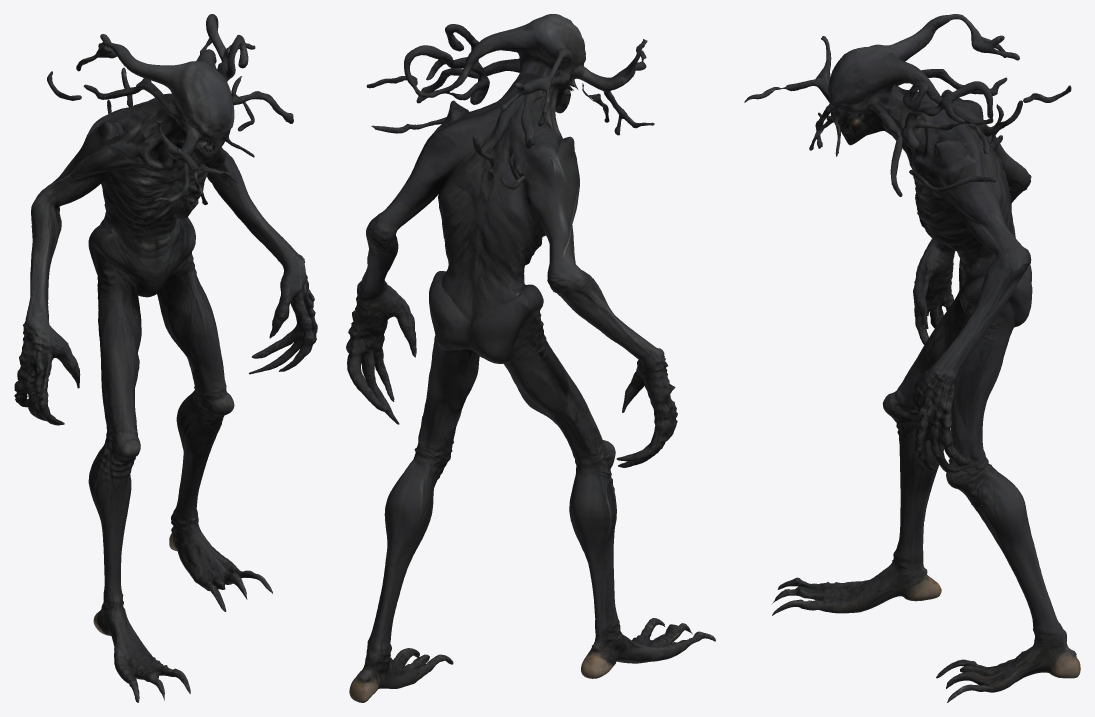
The model's file is Criatura_Enemy_Forte.glb.
3 renders of one model, left to right at view 1: azimuth 30°, elevation 25°; view 2: azimuth 150°, elevation 25°; view 3: azimuth 270°, elevation 25°, orthographic. The views are drawn at different scales.
Bounding box in the file's own units: 0.982 × 1.86 × 0.9305.
Materials: 1 (1 with a texture image).
